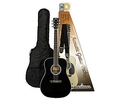guitar: (40, 18, 72, 98)
